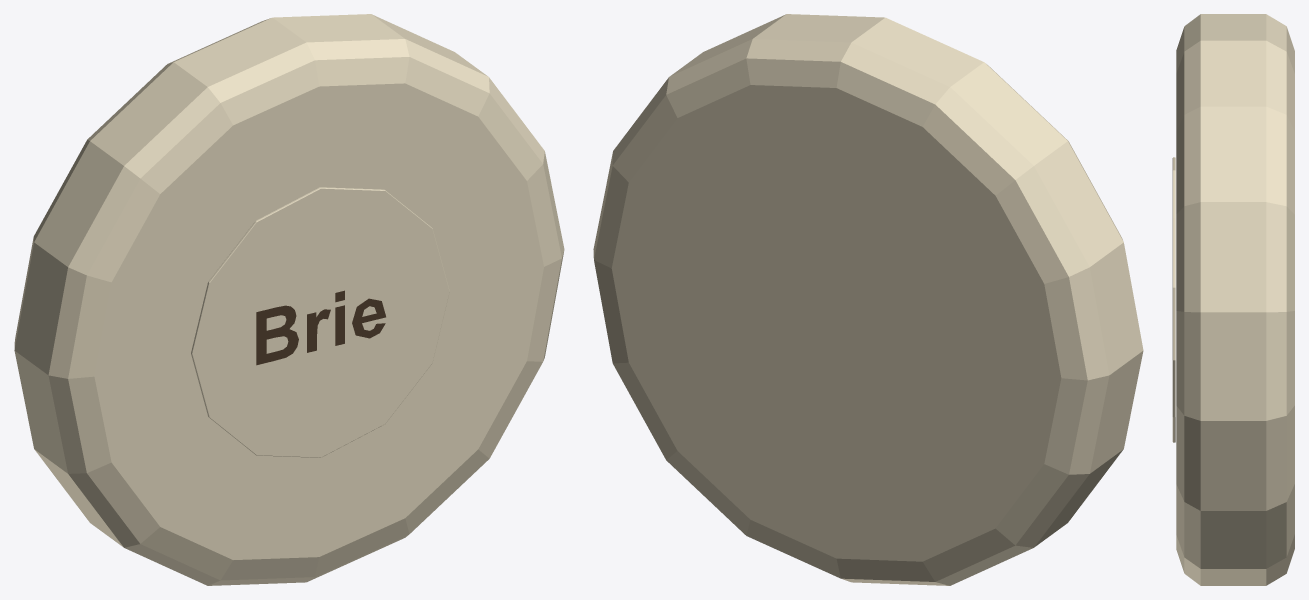
The model's file is brie.glb.
3 renders of one model, left to right at view 1: azimuth 30°, elevation 25°; view 2: azimuth 150°, elevation 25°; view 3: azimuth 270°, elevation 25°, orthographic. The views are drawn at different scales.
Parts seen in each view (by area): view 1: brie; view 2: brie; view 3: brie.
Boxes of the visible parts, x1=… form: brie: x1=14, y1=14, x2=564, y2=585; brie: x1=593, y1=14, x2=1143, y2=585; brie: x1=1172, y1=14, x2=1294, y2=585.
Bounding box in the file's own units: 0.14 × 0.14 × 0.03.
